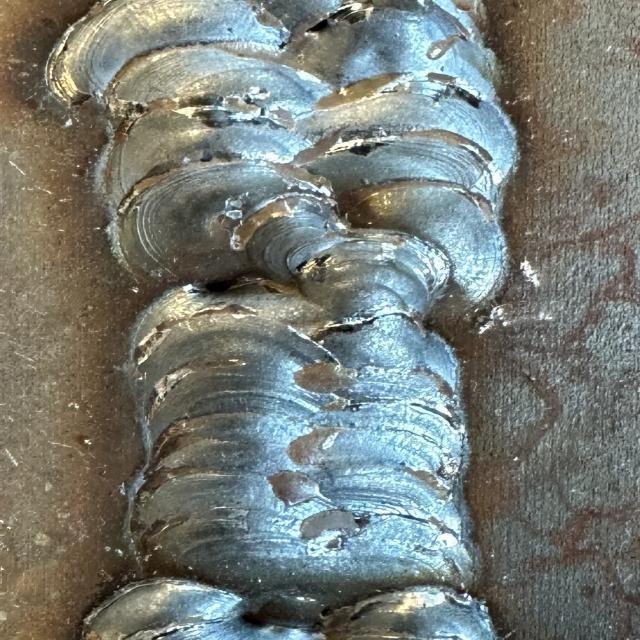Excess Reinforcement: (47, 0, 517, 629), (83, 578, 497, 640)
Spatters: (78, 436, 92, 445), (97, 468, 107, 476)
